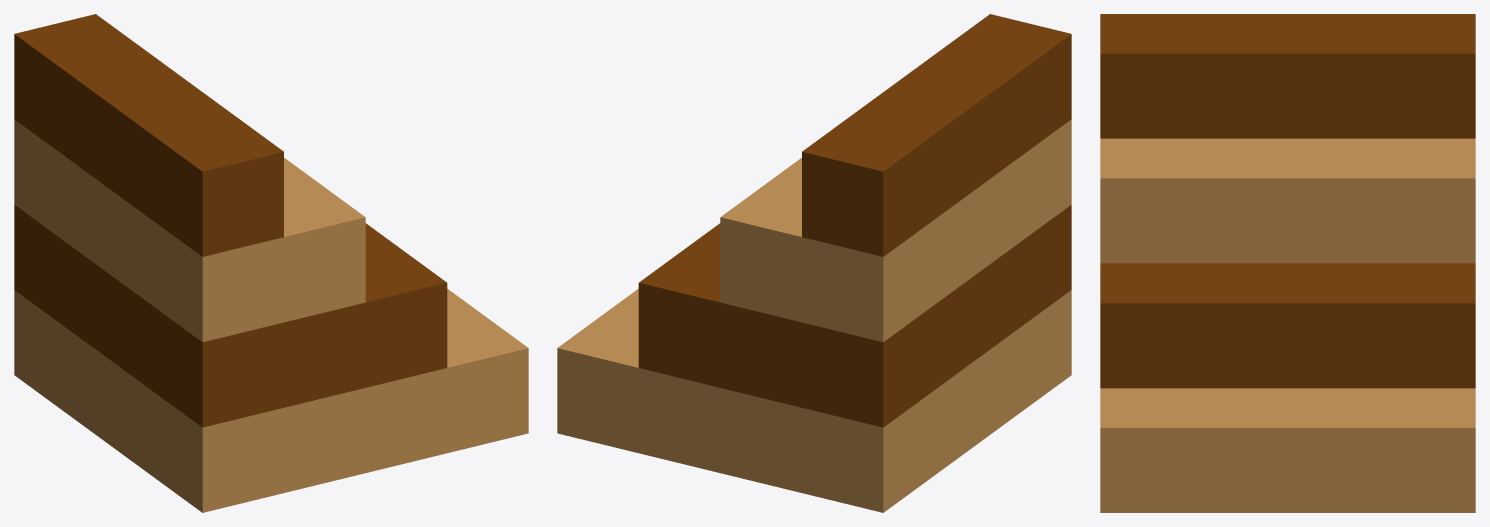
The model's file is Merdiven2.fbx.
The picture shows the model from 3 angles, left to right: view 1: azimuth 30°, elevation 25°; view 2: azimuth 150°, elevation 25°; view 3: azimuth 270°, elevation 25°; orthographic projection.
Parts seen in each view (by area): view 1: Merdiven2; view 2: Merdiven2; view 3: Merdiven2.
Part boxes in pixels (box(x1,y1,x2,y2)): Merdiven2: box(14, 14, 528, 512); Merdiven2: box(557, 14, 1071, 512); Merdiven2: box(1100, 14, 1475, 512).
Bounding box in the file's own units: 200 × 200 × 200.
